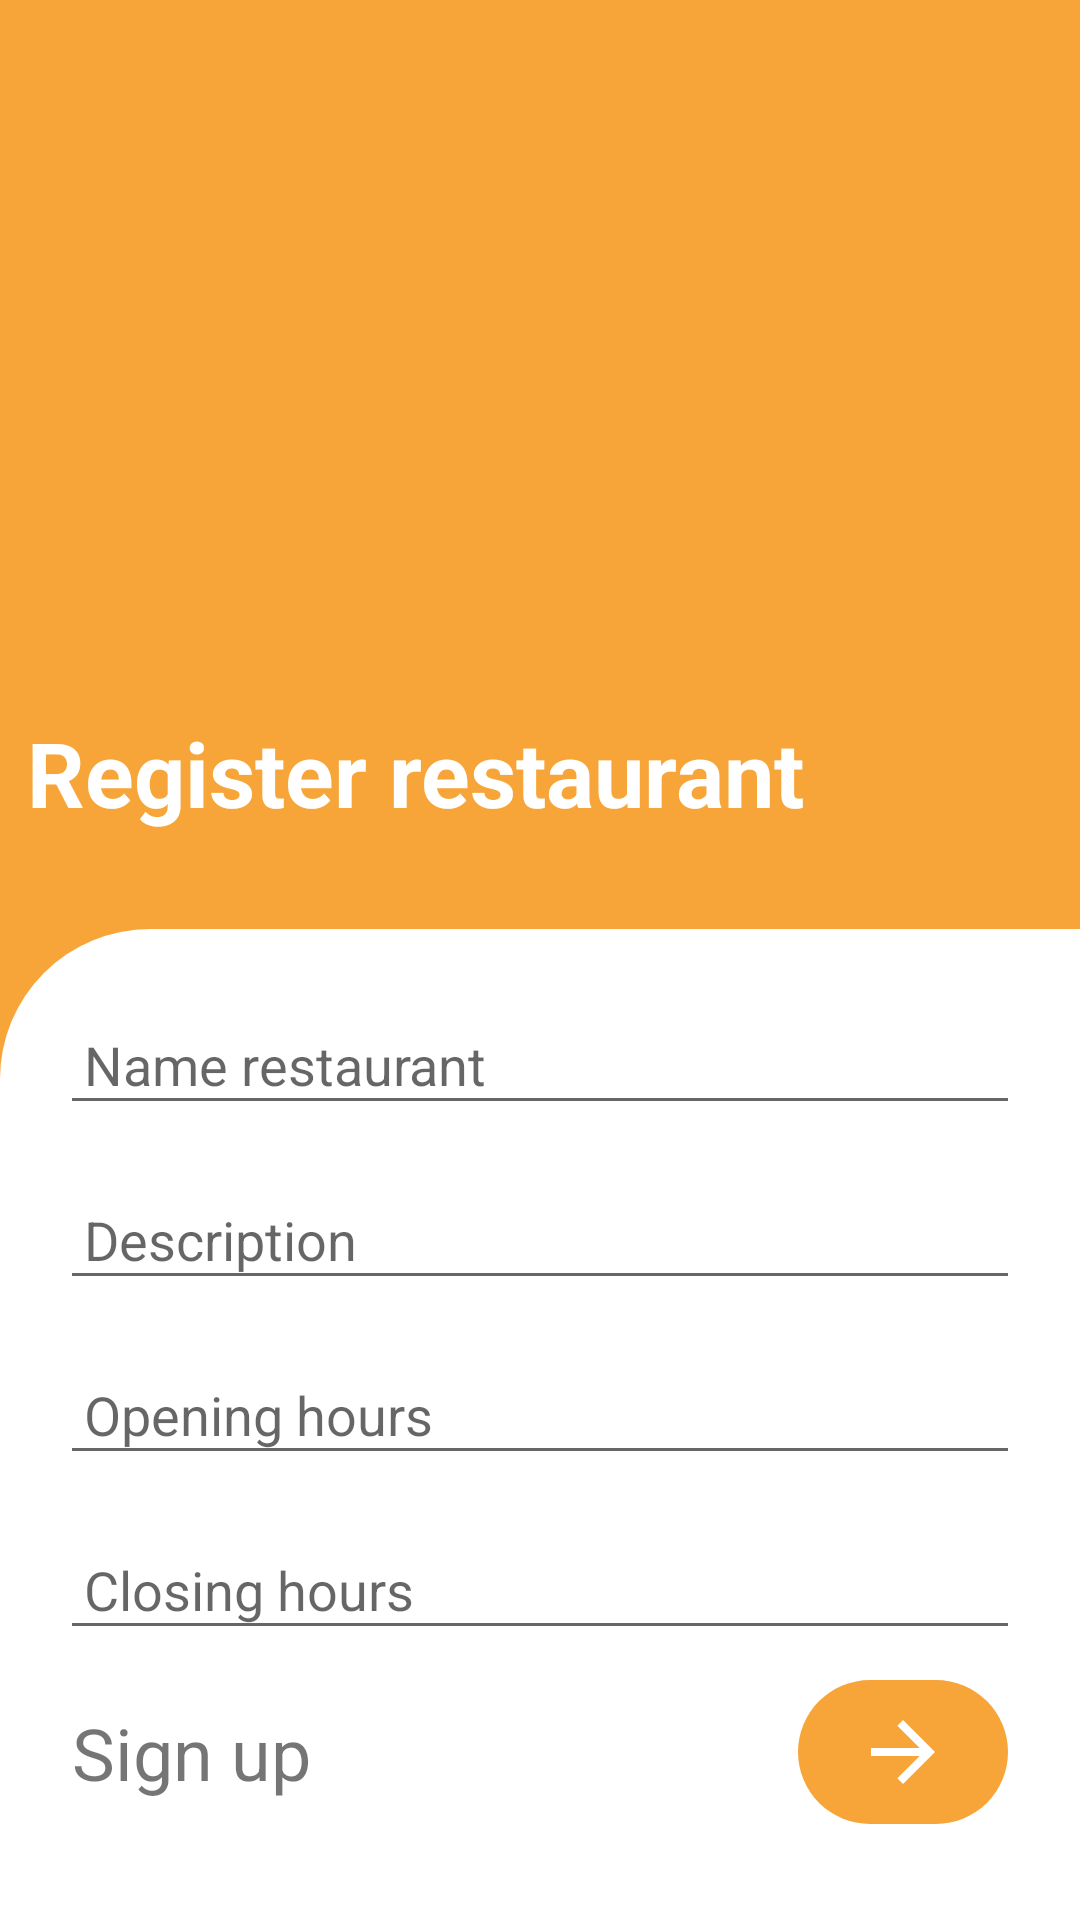

Named icons in this screenshot (1080 × 1920) and their centers, [x,y]:
arrow: [903,1752]
